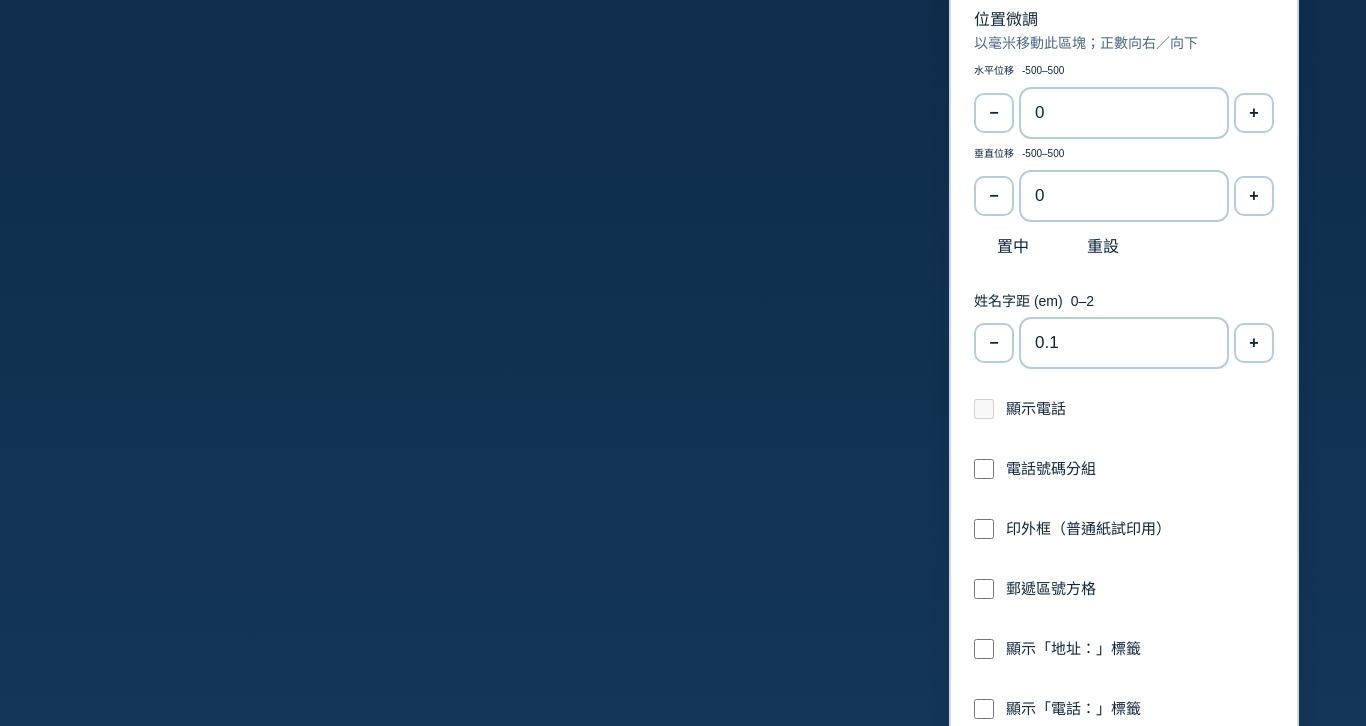
Scenario: letter-spacing steps display decimal values and remain valid
(page scrolled)
Check: the number field labelled "姓名字距 (em)" holds "0.1", box [1019,317,1229,369]
Click the button "+" below "姓名字距 (em)" at (1254,343), box [1234,323,1274,363]
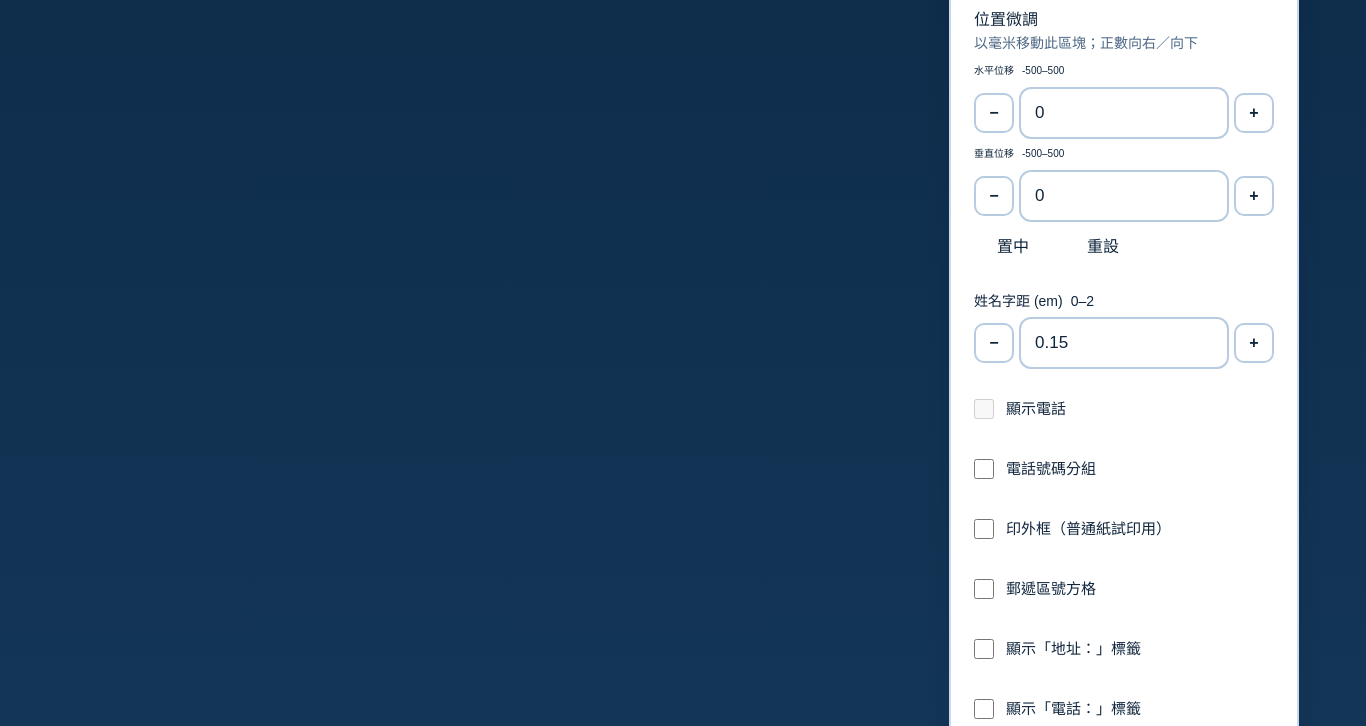
Check: the number field labelled "姓名字距 (em)" holds "0.15", box [1019,317,1229,369]
Click the button "−" below "姓名字距 (em)" at (994,343), box [974,323,1014,363]
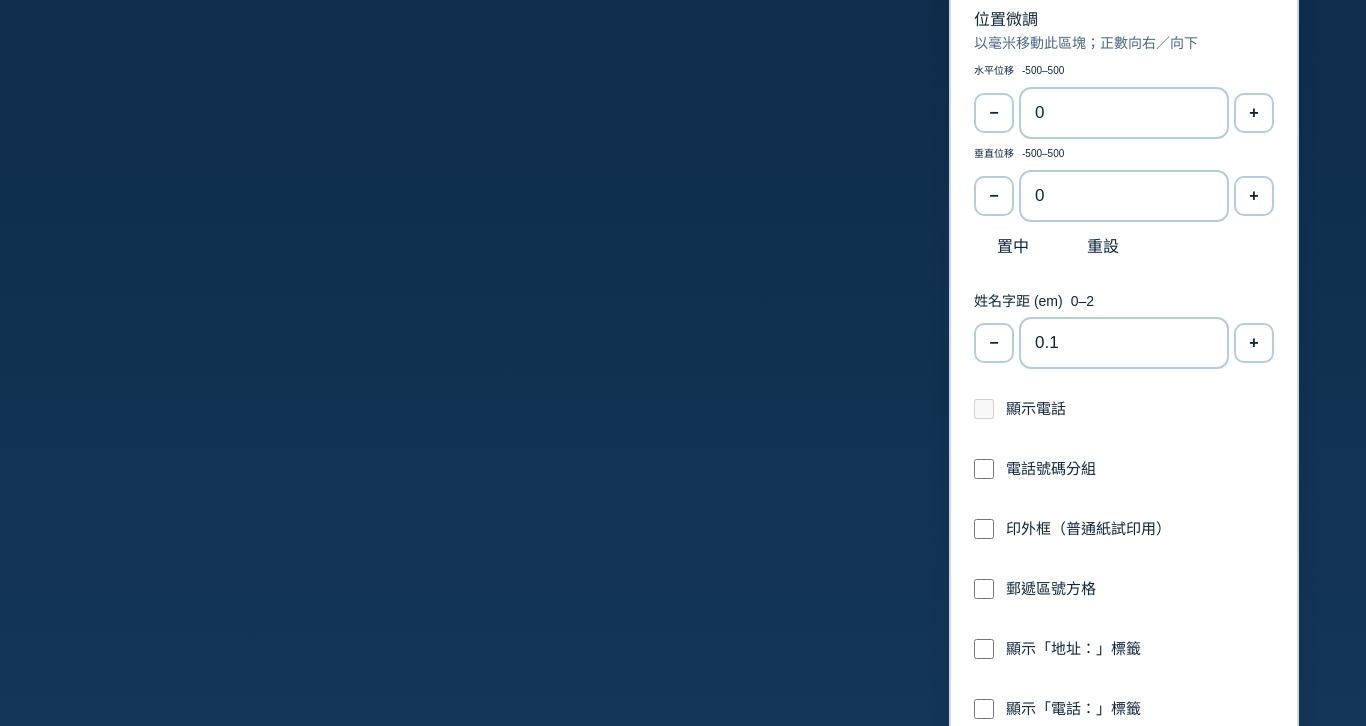
Check: the number field labelled "姓名字距 (em)" holds "0.1", box [1019,317,1229,369]
